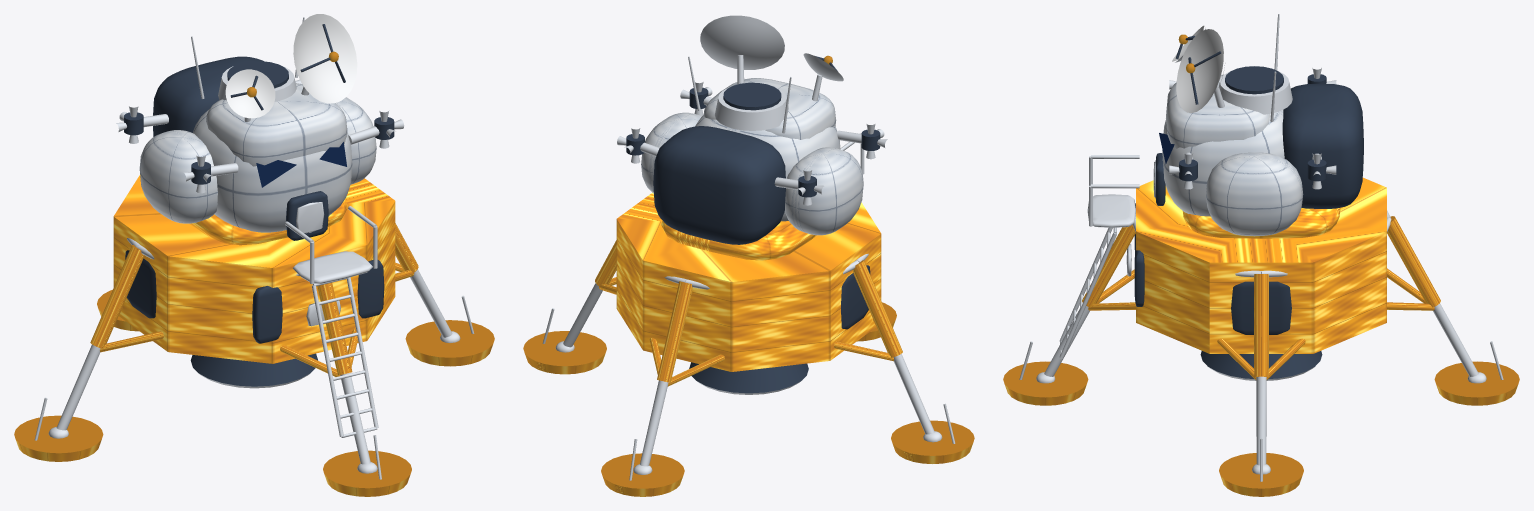
The model's file is apollo-eagle.glb.
3 renders of one model, left to right at view 1: azimuth 30°, elevation 25°; view 2: azimuth 150°, elevation 25°; view 3: azimuth 270°, elevation 25°, orthographic. The views are drawn at different scales.
Visible parts, largest first — view 1: DescentStage, AscentStage, LandingGear, RadarDish; view 2: DescentStage, AscentStage, LandingGear, RadarDish; view 3: DescentStage, AscentStage, LandingGear, RadarDish.
Part boxes in pixels (<box>): DescentStage: <box>113,175,395,388</box>; AscentStage: <box>116,56,404,245</box>; LandingGear: <box>14,223,494,496</box>; RadarDish: <box>191,14,357,121</box>; DescentStage: <box>616,133,881,394</box>; AscentStage: <box>617,78,887,260</box>; LandingGear: <box>523,240,974,496</box>; RadarDish: <box>688,15,843,133</box>; DescentStage: <box>1087,155,1386,380</box>; AscentStage: <box>1153,66,1363,238</box>; LandingGear: <box>1003,210,1519,496</box>; RadarDish: <box>1172,14,1279,121</box>.
Size of the model in its own units: 2.97 by 2.36 by 2.97.
6 materials, 2 textured.
